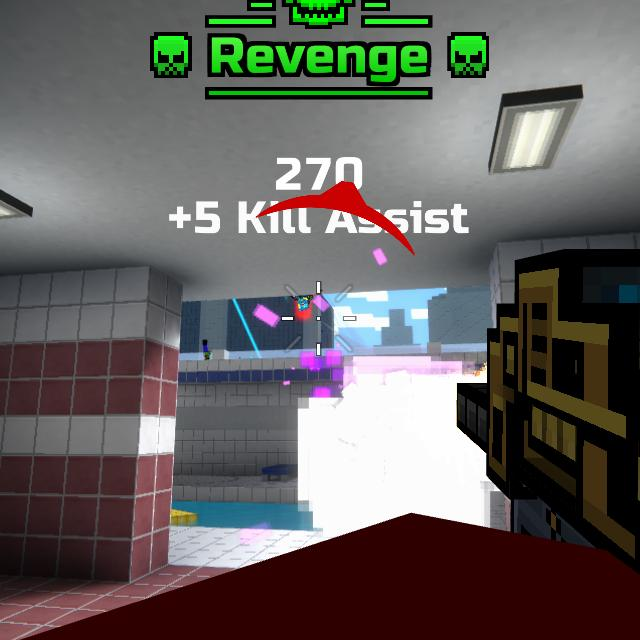Enemy: (296, 295, 313, 309)
